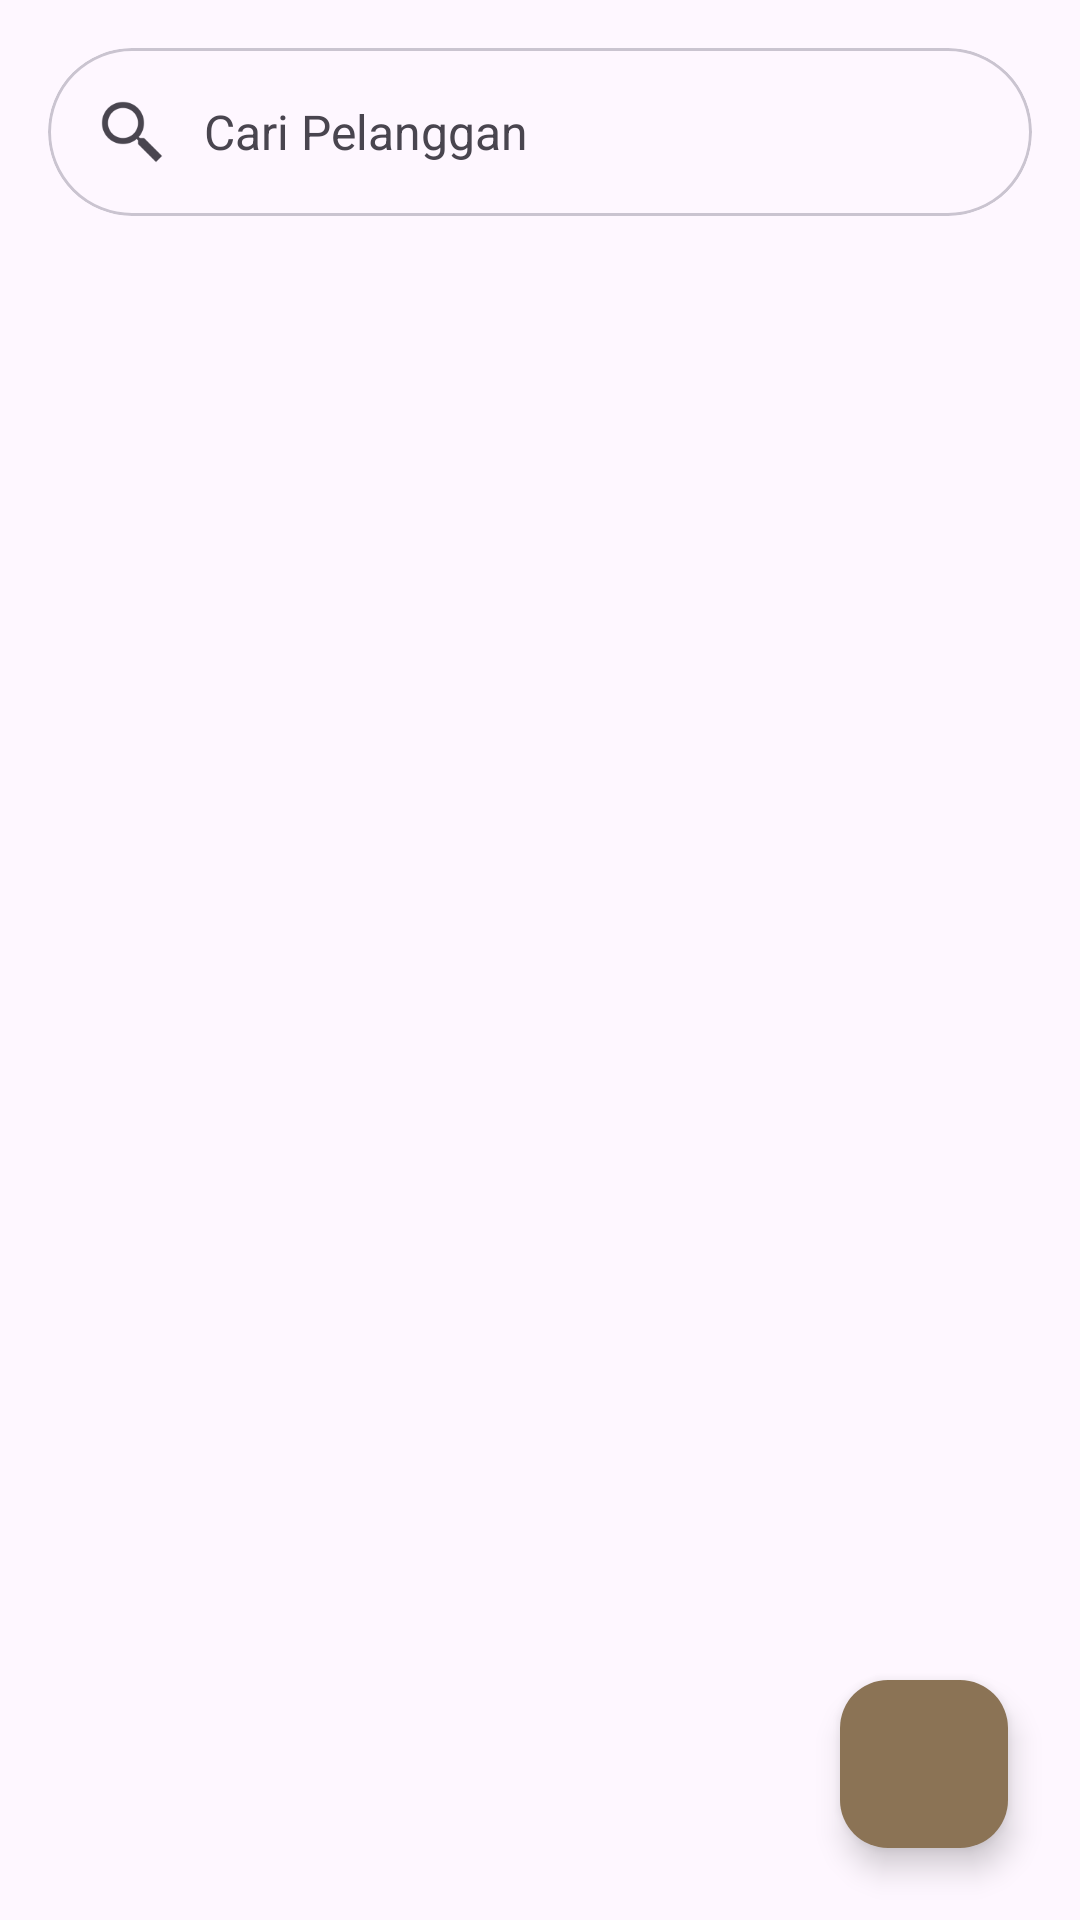

Locate icon controls on the screen. Image size 1080 x 1920, boxes as (x1, y1, x2, y2).
search: (102, 102, 162, 162)
